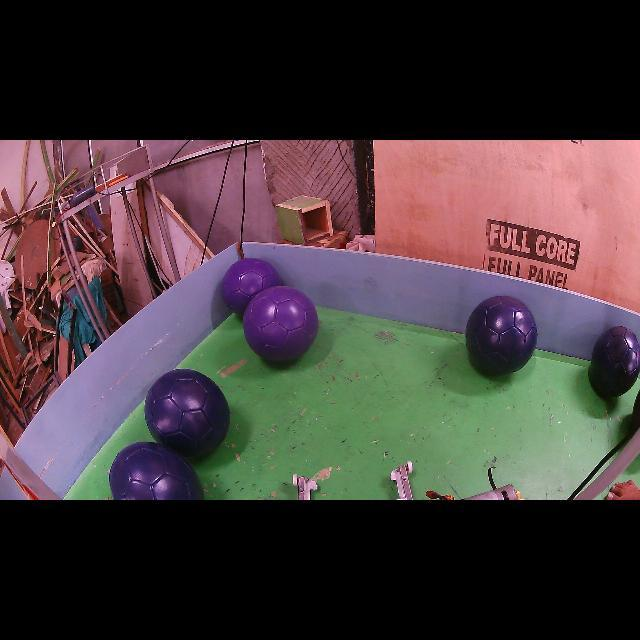B: (145, 369, 230, 457), (466, 296, 538, 374), (109, 441, 204, 500), (589, 326, 640, 398)
P: (244, 286, 319, 362), (221, 258, 280, 315)
